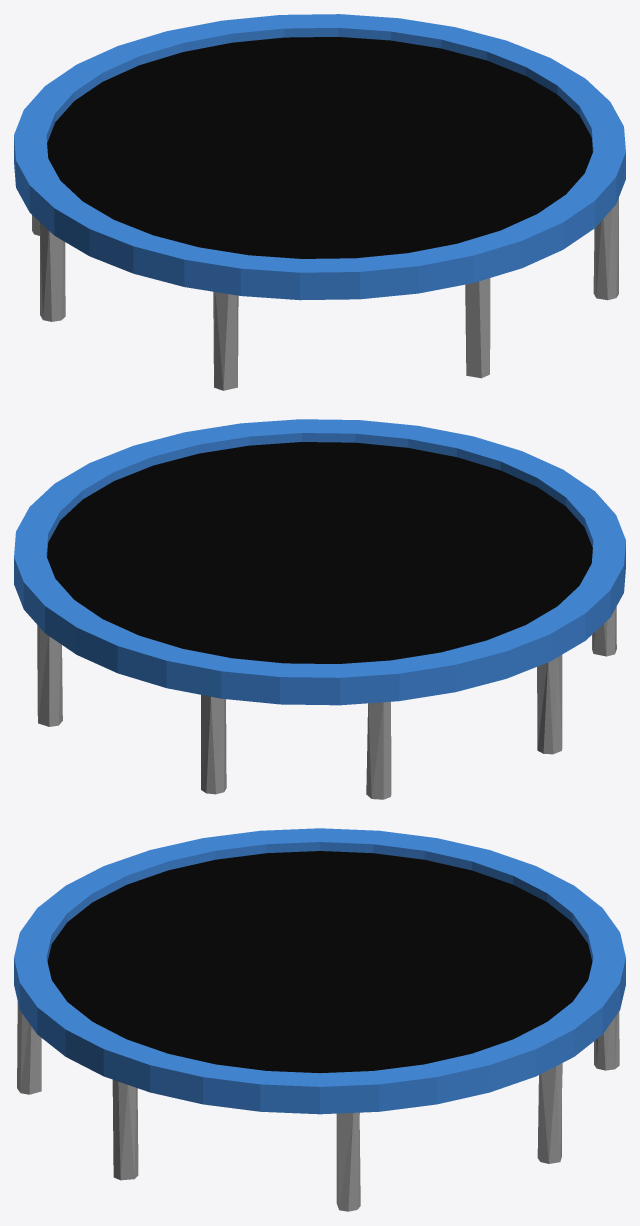
File: Trampoline.glb
3 views of the same model, one above another, from view 1: azimuth 30°, elevation 25°; view 2: azimuth 150°, elevation 25°; view 3: azimuth 270°, elevation 25° (orthographic).
Visible parts, largest first — view 1: JumpPad; view 2: JumpPad; view 3: JumpPad.
Boxes of the visible parts, x1,y1,x2,y2 form: JumpPad: [14, 14, 625, 390]; JumpPad: [14, 419, 625, 799]; JumpPad: [14, 828, 625, 1211].
Bounding box in the file's own units: 2.97 × 0.6729 × 2.97.
